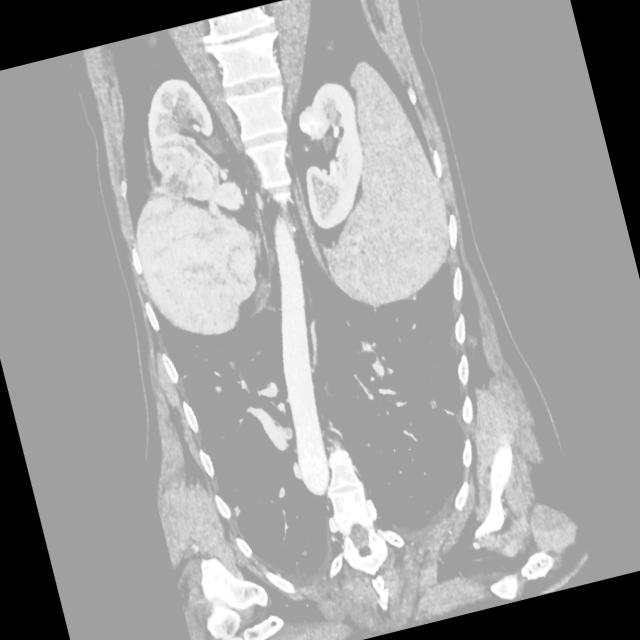TUMOR: (58, 3, 540, 418)
